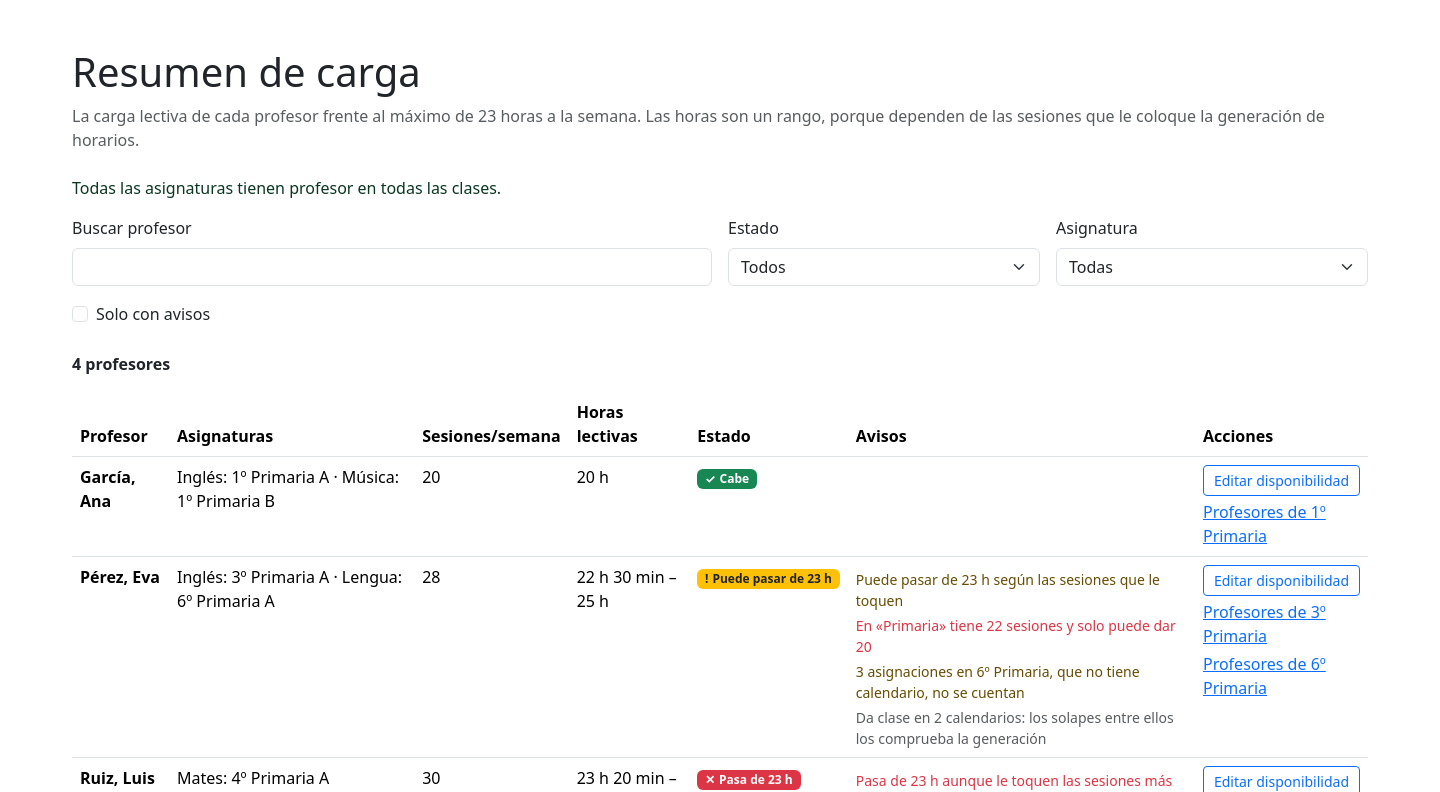
Test: ProfessorsSummaryPage › filters and count › searches by name and last name without capitals or accents, but not by subject
The image size is (1440, 792).
Type "PEREZ" into the search field labelled "Buscar profesor" at (392, 267), box [72, 248, 712, 286]
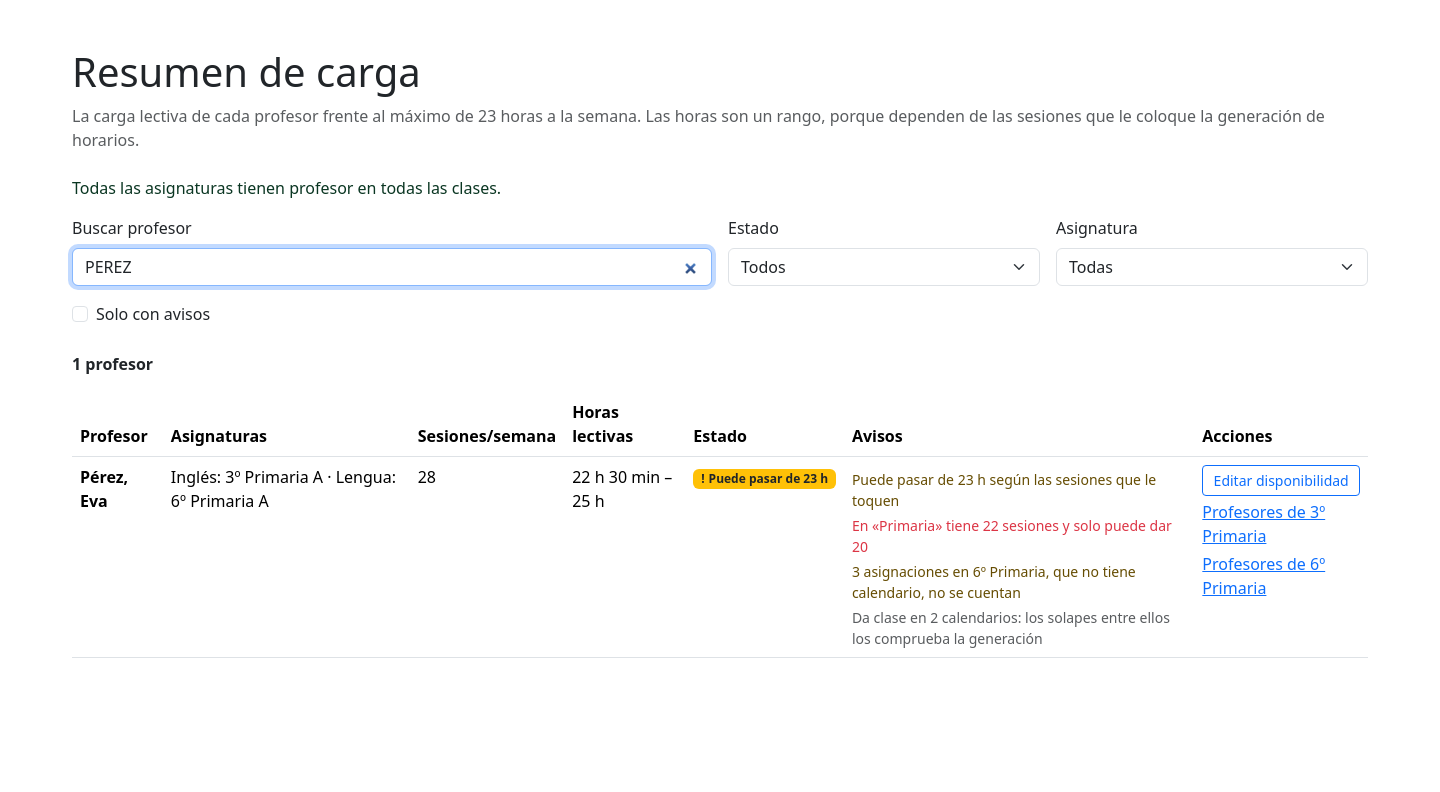
Replace the text in the search field labelled "Buscar profesor" with "ingles" at (392, 267), box [72, 248, 712, 286]
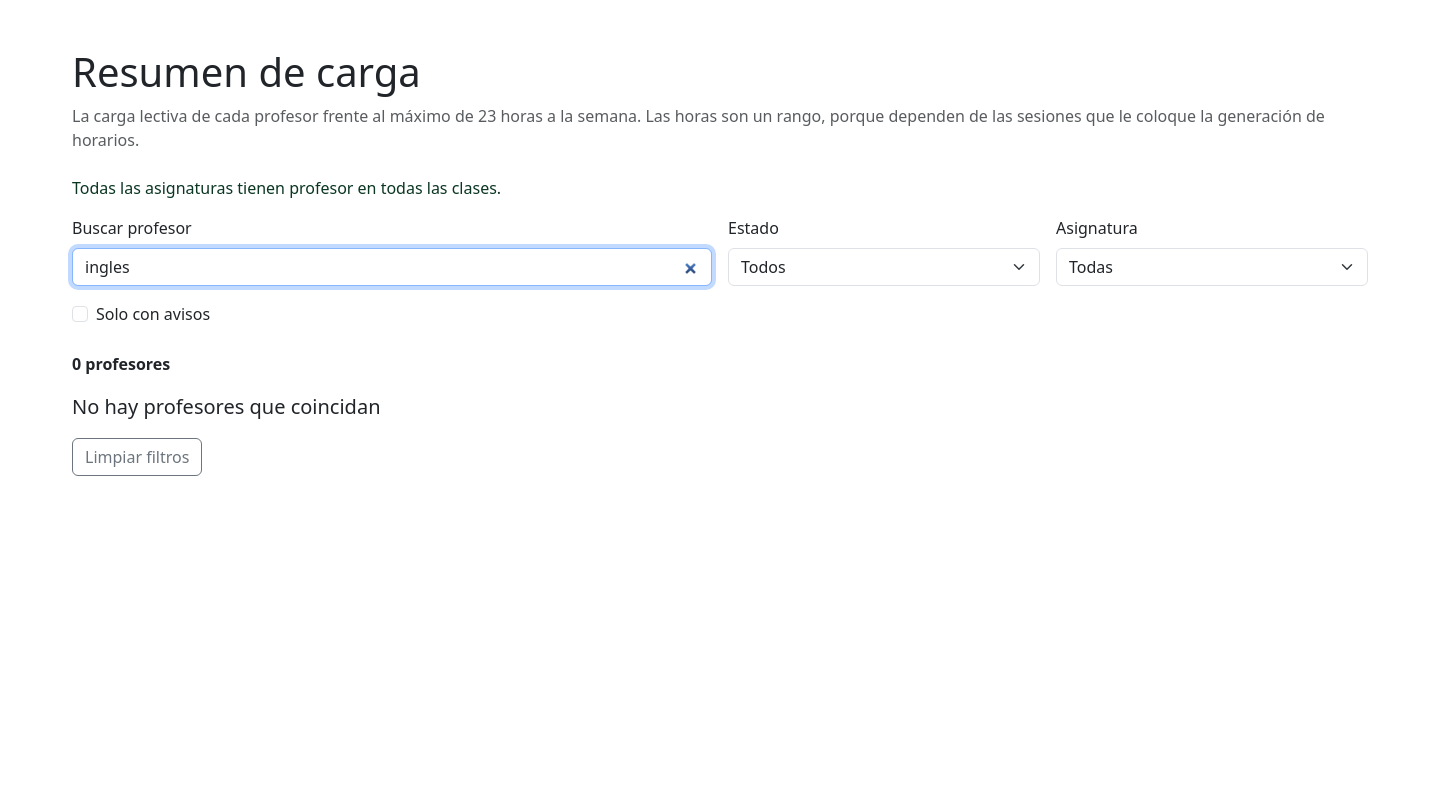
Expected: the text "No hay profesores que coincidan" is shown, [72, 393, 380, 420]
